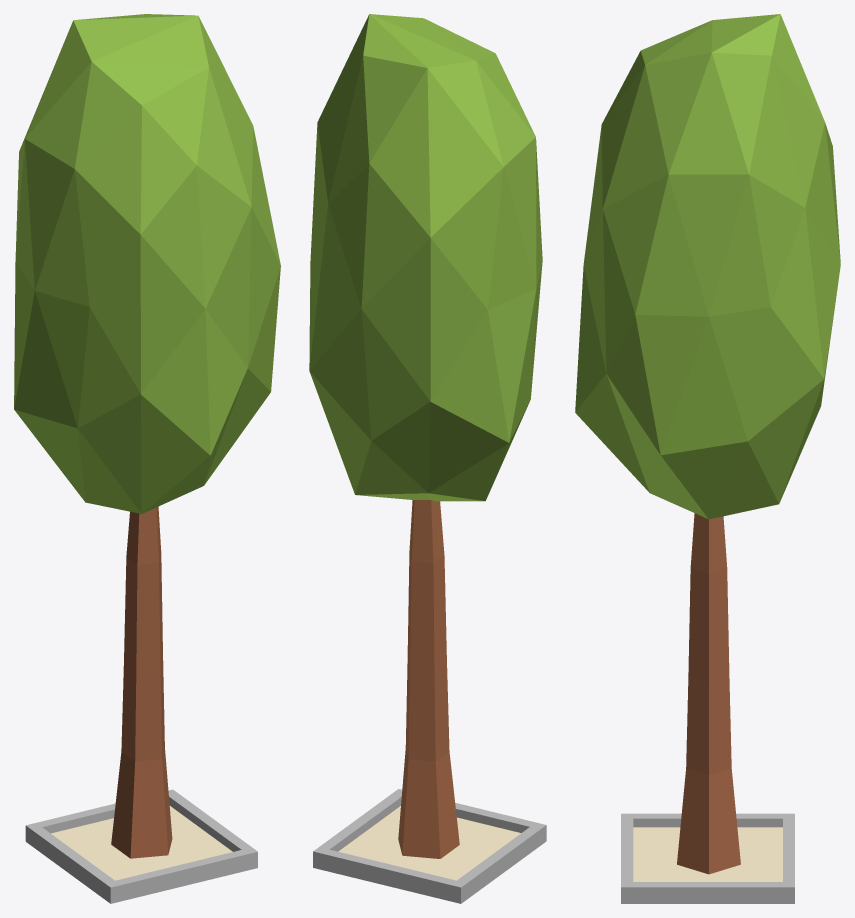
Rendered from Tree_2.fbx.
The picture shows the model from 3 angles, left to right: view 1: azimuth 30°, elevation 25°; view 2: azimuth 150°, elevation 25°; view 3: azimuth 270°, elevation 25°; orthographic projection. The views are drawn at different scales.
Visible parts, largest first — view 1: Tree_2; view 2: Tree_2; view 3: Tree_2.
Part boxes in pixels (x1,y1,x2,y2): Tree_2: [14, 14, 280, 903]; Tree_2: [309, 14, 546, 903]; Tree_2: [575, 14, 840, 903].
Size of the model in its own units: 2.13 by 7.87 by 2.25.
1 material, 1 textured.
